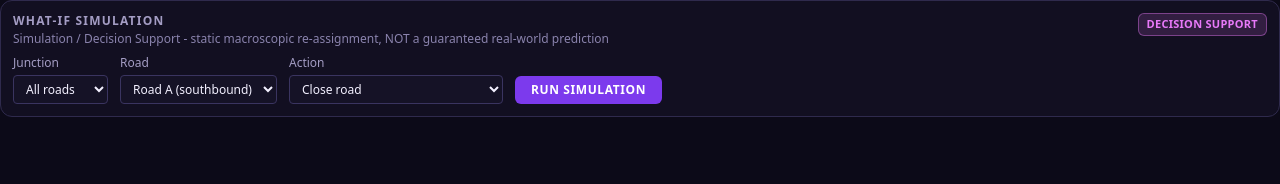
Test case: WhatIfPanel › reports a failed simulation
What coordinates should you click on to do the following:
click the button "Run simulation"
I would click on:
 (589, 90)
Its box is [515,76,662,104].
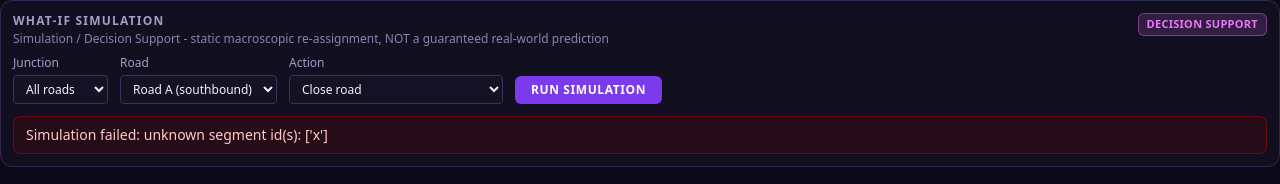
Expected: the text "Simulation failed: unknown segment id(s): ['x']" is shown, [26,125,328,145]
